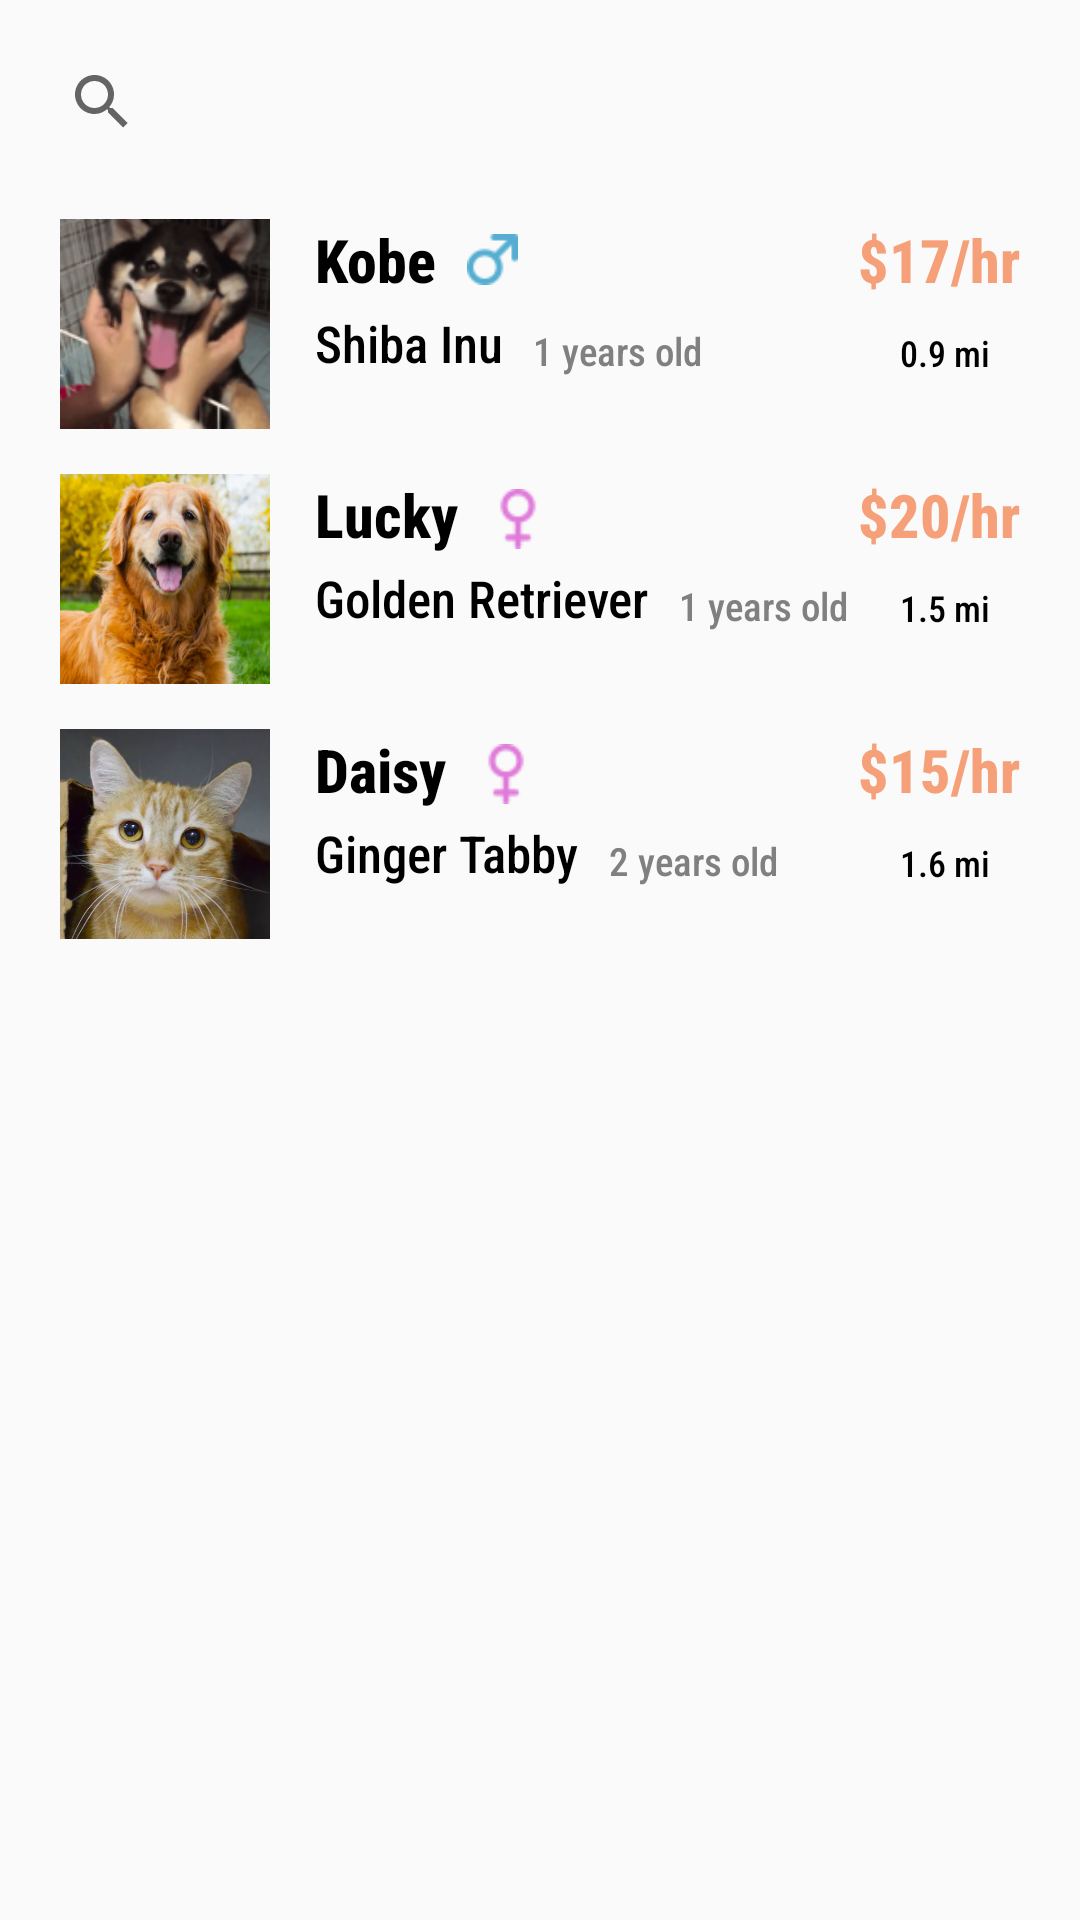

Icons on this 1080 × 1920 Android screen, each with its box as (x1, y1, x2, y2):
boy: (467, 234, 518, 285)
cat pic: (60, 729, 270, 939)
dog pic: (60, 219, 270, 429), (60, 474, 270, 684)
girl: (500, 489, 536, 549), (488, 744, 524, 804)
